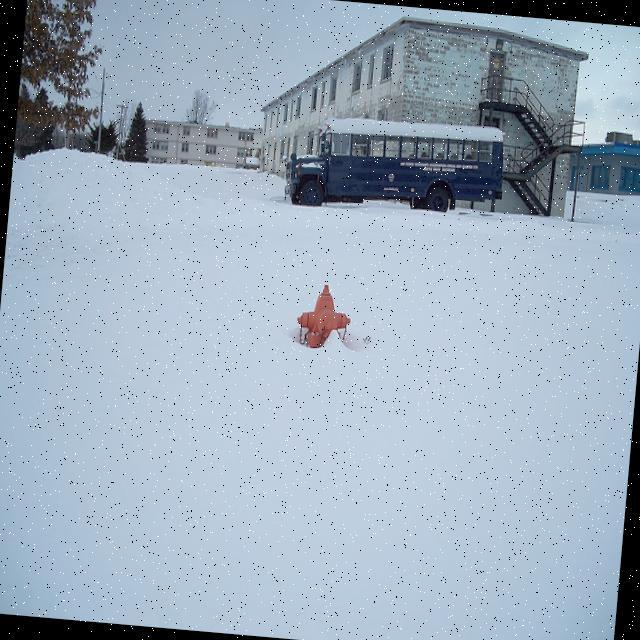fire_hydrant: (294, 280, 352, 348)
